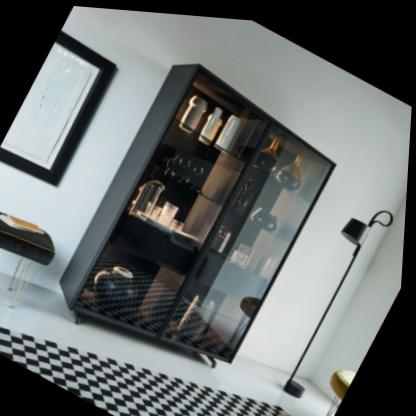Cupboard: (61, 61, 337, 362)
